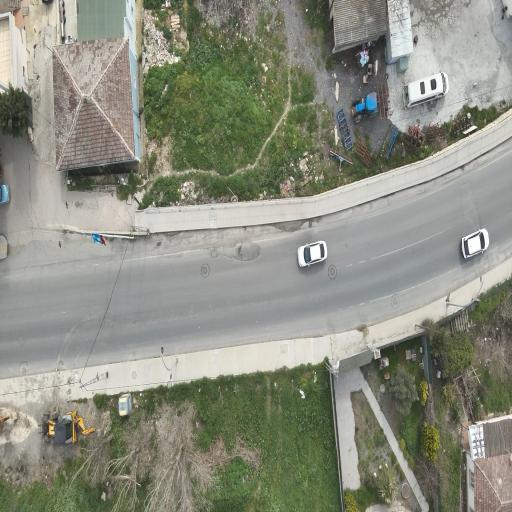car: (403, 73, 449, 109), (351, 92, 379, 124), (461, 228, 488, 257), (297, 240, 325, 265), (0, 183, 8, 202)
